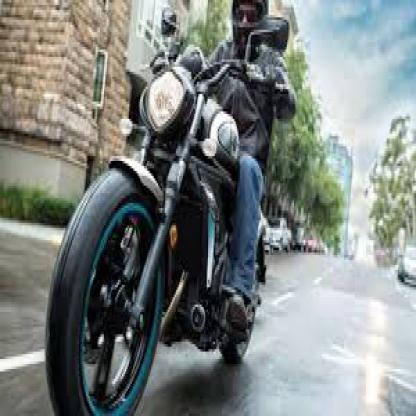Motorcycle: (39, 3, 273, 414)
